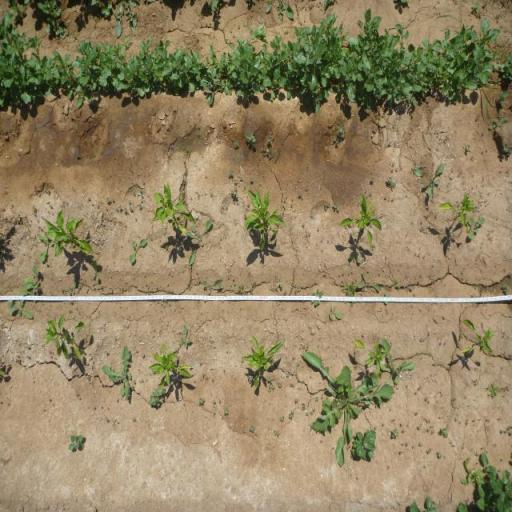plant: (243, 189, 289, 253), (43, 207, 98, 260), (242, 331, 287, 389), (43, 313, 88, 361), (148, 341, 192, 390), (341, 194, 382, 240), (437, 191, 476, 235), (152, 189, 191, 232), (462, 318, 494, 358), (352, 336, 385, 372)
weed: (301, 349, 396, 468), (388, 22, 462, 106), (323, 14, 391, 104), (272, 29, 328, 98), (168, 44, 230, 102), (0, 26, 42, 108), (228, 23, 273, 98), (74, 36, 120, 108), (118, 37, 171, 98), (462, 17, 500, 90), (476, 452, 512, 512), (380, 336, 418, 387), (100, 344, 133, 402), (44, 52, 77, 94), (186, 220, 214, 267), (36, 0, 68, 38), (115, 0, 138, 38), (5, 293, 34, 322), (352, 428, 376, 462), (423, 161, 445, 197), (460, 458, 486, 484), (36, 231, 54, 264), (22, 261, 40, 290), (174, 324, 194, 350), (128, 238, 148, 264), (357, 270, 380, 292), (487, 110, 511, 131), (11, 0, 31, 25), (468, 215, 486, 240), (330, 122, 348, 146), (409, 496, 434, 512), (148, 385, 166, 407), (498, 56, 512, 82), (67, 434, 86, 452), (202, 280, 224, 294), (490, 42, 506, 60), (20, 289, 38, 303), (310, 288, 324, 306), (487, 382, 502, 398), (329, 305, 342, 322), (471, 0, 482, 18), (67, 278, 78, 296), (348, 251, 362, 265), (262, 142, 274, 158), (100, 2, 113, 16), (496, 91, 510, 104), (91, 260, 100, 280), (346, 280, 356, 297), (246, 131, 256, 147), (386, 176, 397, 190), (411, 166, 423, 178), (437, 426, 448, 439), (230, 185, 240, 199), (389, 427, 399, 439), (122, 36, 132, 48), (502, 282, 510, 296), (501, 425, 512, 435), (381, 292, 390, 304), (388, 278, 398, 288), (462, 144, 472, 154), (198, 396, 206, 406), (333, 202, 340, 213), (504, 142, 510, 154), (369, 242, 377, 251), (249, 424, 256, 434), (288, 410, 295, 420), (247, 374, 253, 384), (228, 168, 234, 178), (238, 284, 244, 294), (324, 201, 330, 210), (314, 396, 320, 404), (184, 146, 190, 154), (223, 409, 229, 416), (273, 430, 280, 436), (289, 382, 295, 389), (436, 452, 443, 458), (426, 447, 432, 454), (458, 333, 464, 340), (268, 384, 272, 394), (234, 141, 239, 149), (302, 402, 306, 411), (32, 205, 37, 212), (139, 188, 143, 196), (86, 376, 91, 382), (267, 136, 272, 142), (426, 418, 431, 424), (387, 140, 392, 146), (272, 385, 276, 392), (132, 189, 136, 196), (418, 441, 423, 446), (268, 376, 272, 382), (280, 416, 284, 422), (279, 281, 283, 287), (370, 177, 374, 183), (278, 382, 282, 387), (118, 205, 122, 210), (418, 425, 422, 430), (426, 429, 431, 433), (212, 400, 216, 404), (294, 398, 298, 402), (129, 207, 133, 211), (234, 180, 238, 184), (250, 178, 254, 182), (298, 193, 302, 197), (400, 422, 403, 427), (46, 187, 48, 193), (134, 379, 136, 385), (123, 208, 127, 211), (244, 213, 246, 218), (142, 352, 144, 356), (286, 372, 288, 376), (107, 198, 109, 202), (248, 203, 250, 207), (306, 412, 308, 415)
